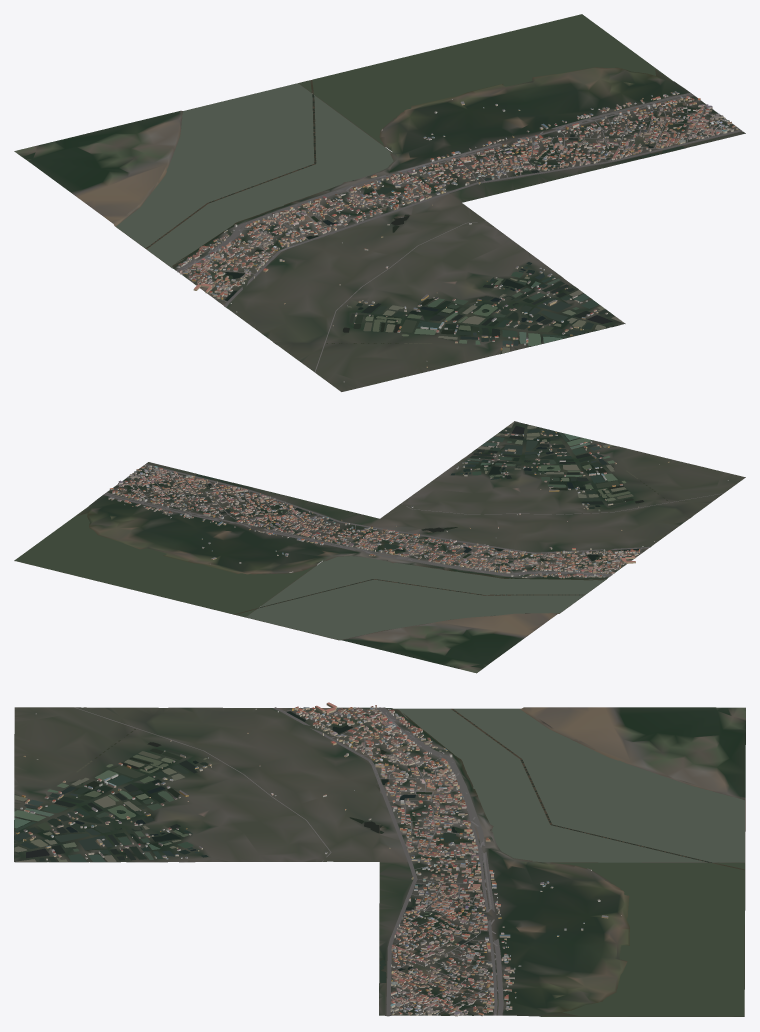
3 renders of one model, top to bottom at view 1: azimuth 30°, elevation 25°; view 2: azimuth 150°, elevation 25°; view 3: azimuth 270°, elevation 25°, orthographic. The views are drawn at different scales.
Visible parts, largest first — view 1: ground, water, buildings, roads; view 2: ground, water, buildings, roads; view 3: ground, water, buildings, roads.
Boxes of the visible parts, left/top/right/bottom form: ground: left=14, top=67, right=745, bottom=391; water: left=116, top=14, right=718, bottom=353; buildings: left=176, top=91, right=738, bottom=382; roads: left=175, top=92, right=741, bottom=372; ground: left=14, top=421, right=745, bottom=673; water: left=14, top=422, right=669, bottom=639; buildings: left=108, top=429, right=728, bottom=578; roads: left=103, top=464, right=723, bottom=576; ground: left=14, top=707, right=745, bottom=1016; water: left=14, top=708, right=744, bottom=1016; buildings: left=16, top=702, right=621, bottom=1016; roads: left=74, top=707, right=503, bottom=1015.
Size of the model in its own units: 2837 by 20.09 by 2806.
